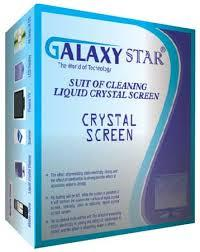Cardboard: (4, 6, 200, 252)
